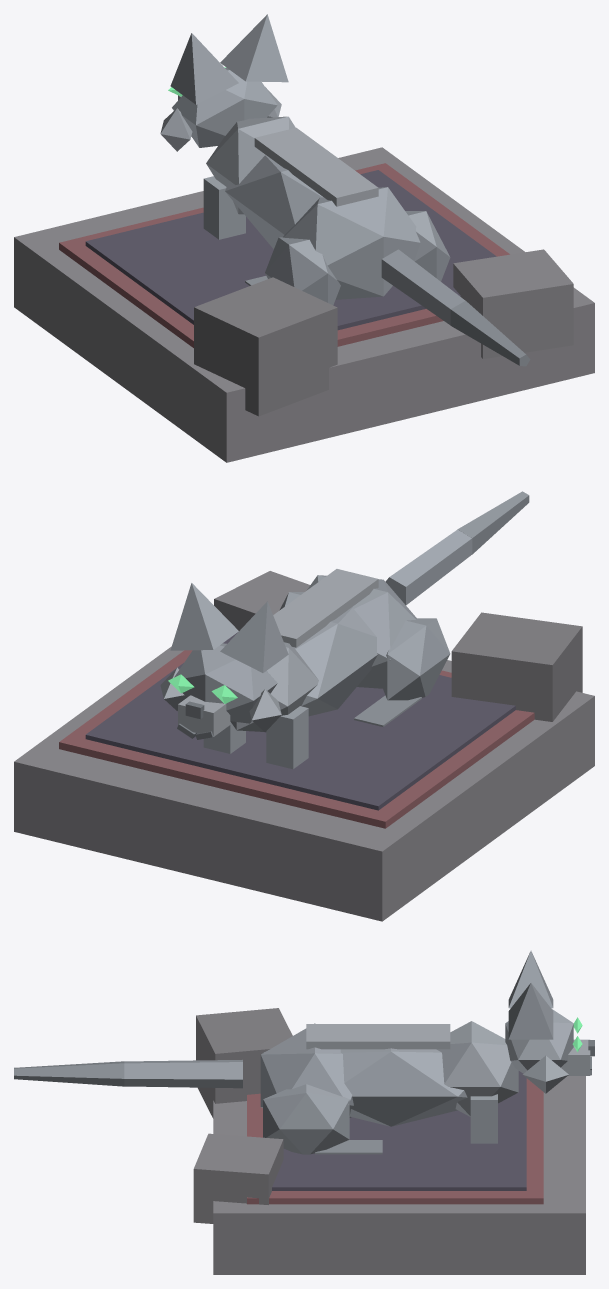
Rendered from cat.glb.
3 renders of one model, top to bottom at view 1: azimuth 30°, elevation 25°; view 2: azimuth 150°, elevation 25°; view 3: azimuth 270°, elevation 25°, orthographic. The views are drawn at different scales.
Visible parts, largest first — view 1: mesh_hearth, mesh_body, mesh_head, mesh_leg_bl, mesh_tail_1, mesh_ear_r, mesh_ear_l, mesh_tail_2, mesh_leg_fl, mesh_leg_br; view 2: mesh_hearth, mesh_body, mesh_head, mesh_leg_bl, mesh_tail_1, mesh_ear_r, mesh_ear_l, mesh_leg_fl, mesh_tail_2, mesh_leg_fr; view 3: mesh_hearth, mesh_body, mesh_leg_br, mesh_head, mesh_tail_1, mesh_tail_2, mesh_ear_r, mesh_leg_fr, mesh_ear_l.
Part boxes in pixels (bbox=[...]): mesh_hearth: bbox=[14, 147, 594, 462]; mesh_body: bbox=[206, 116, 420, 299]; mesh_head: bbox=[160, 67, 281, 151]; mesh_leg_bl: bbox=[245, 237, 340, 304]; mesh_tail_1: bbox=[381, 249, 465, 325]; mesh_ear_r: bbox=[220, 14, 288, 82]; mesh_ear_l: bbox=[170, 33, 238, 104]; mesh_tail_2: bbox=[450, 300, 530, 366]; mesh_leg_fl: bbox=[203, 176, 245, 239]; mesh_leg_br: bbox=[405, 211, 450, 281]; mesh_hearth: bbox=[14, 571, 594, 921]; mesh_body: bbox=[230, 569, 416, 731]; mesh_head: bbox=[160, 643, 281, 739]; mesh_leg_bl: bbox=[354, 618, 450, 726]; mesh_tail_1: bbox=[385, 529, 472, 605]; mesh_ear_r: bbox=[170, 583, 238, 650]; mesh_ear_l: bbox=[220, 601, 288, 672]; mesh_leg_fl: bbox=[266, 706, 308, 769]; mesh_tail_2: bbox=[457, 491, 529, 554]; mesh_leg_fr: bbox=[203, 722, 245, 753]; mesh_hearth: bbox=[193, 1008, 585, 1274]; mesh_body: bbox=[260, 1021, 518, 1126]; mesh_leg_br: bbox=[263, 1084, 382, 1154]; mesh_head: bbox=[505, 1009, 594, 1093]; mesh_tail_1: bbox=[124, 1059, 242, 1088]; mesh_tail_2: bbox=[14, 1061, 124, 1086]; mesh_ear_r: bbox=[508, 983, 553, 1039]; mesh_leg_fr: bbox=[470, 1094, 497, 1143]; mesh_ear_l: bbox=[508, 950, 553, 1008].
Bounding box in the file's own units: 0.88 × 0.5981 × 1.37.
